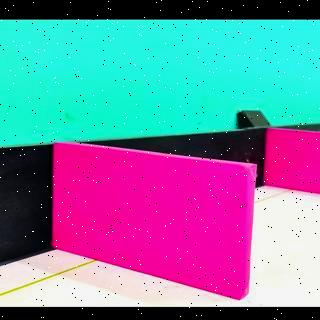xparking: (71, 167, 246, 296), (274, 137, 314, 191)
